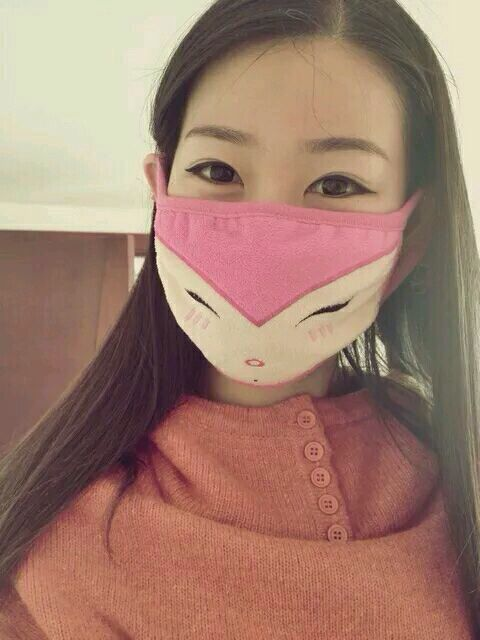face_mask: (154, 35, 401, 377)
